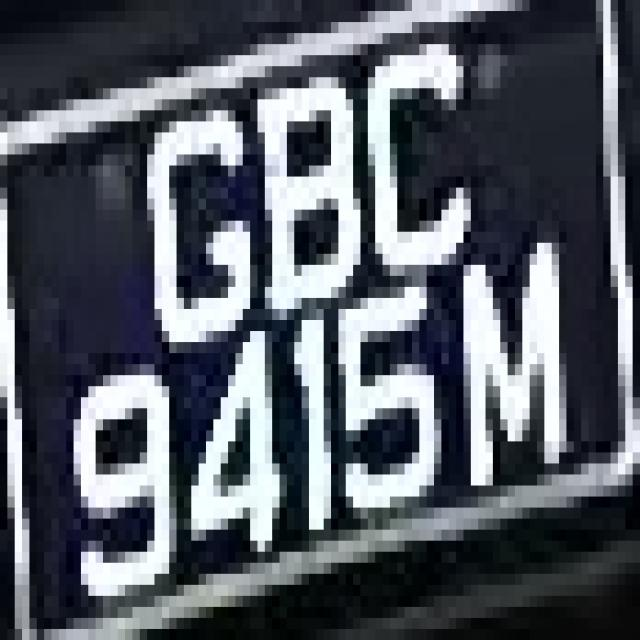1: (280, 298, 353, 574)
4: (169, 298, 302, 574)
5: (346, 287, 456, 530)
9: (59, 342, 184, 607)
B: (243, 66, 368, 331)
C: (368, 44, 493, 287)
G: (132, 88, 265, 342)
M: (434, 220, 596, 497)
